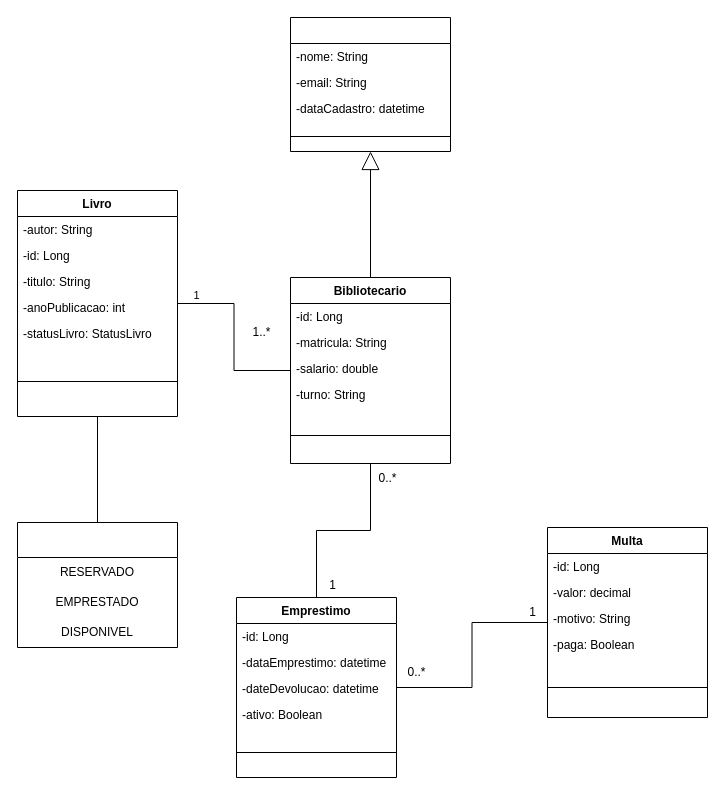
Image size: 725x795. Some labels were removed from this diagram. Each missing label, with the box of its shape:
<<enumeration>> StatusLivro: (16, 522, 178, 648)
Pessoa: (290, 16, 450, 152)
